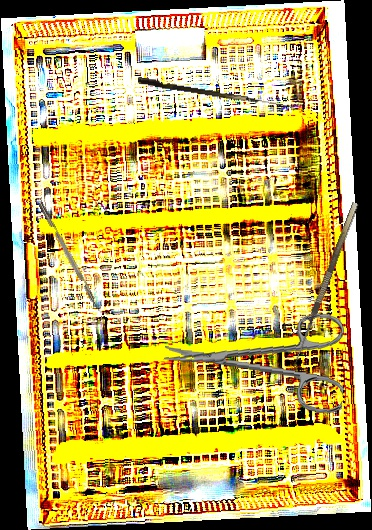Chopper: (38, 199, 109, 319)
Hook Surgical: (290, 201, 368, 371), (137, 77, 295, 108)
Iris Scissors: (160, 300, 350, 415)
